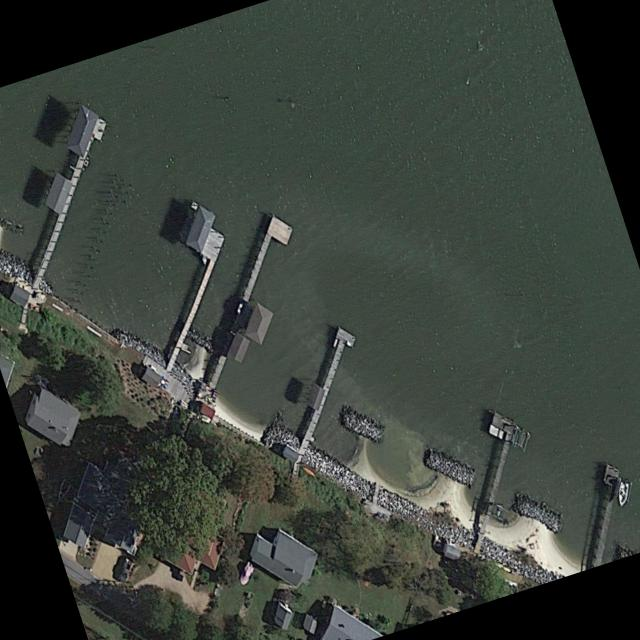ship: (237, 561, 256, 589), (615, 480, 630, 508)
small-vehicle: (118, 558, 133, 583)
